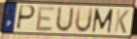E: (34, 6, 56, 32)
K: (113, 8, 130, 35)
M: (92, 7, 115, 34)
P: (15, 5, 36, 32)
U: (54, 5, 76, 33), (74, 7, 95, 34)
